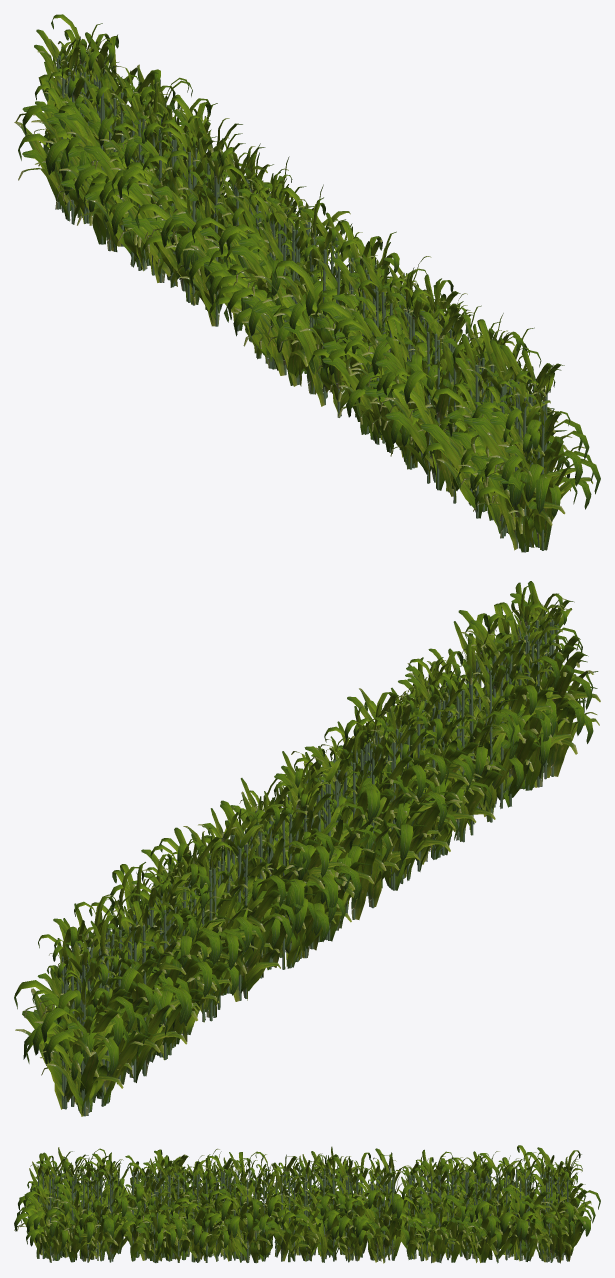
File: milharal1x50_denso7.fbx
The picture shows the model from 3 angles, top to bottom: view 1: azimuth 30°, elevation 25°; view 2: azimuth 150°, elevation 25°; view 3: azimuth 270°, elevation 25°; orthographic projection. The views are drawn at different scales.
Visible parts, largest first — view 1: Plantacao2; view 2: Plantacao2; view 3: Plantacao2.
Part boxes in pixels (x1,y1,x2,y2): Plantacao2: (14,14,600,552); Plantacao2: (14,581,600,1116); Plantacao2: (14,1145,600,1263).
Size of the model in its own units: 776 by 1114 by 5466.
